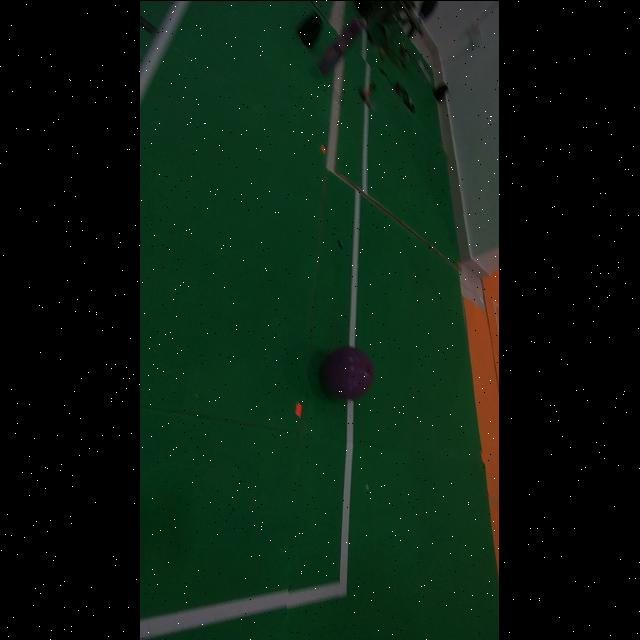P: (322, 346, 375, 399)
